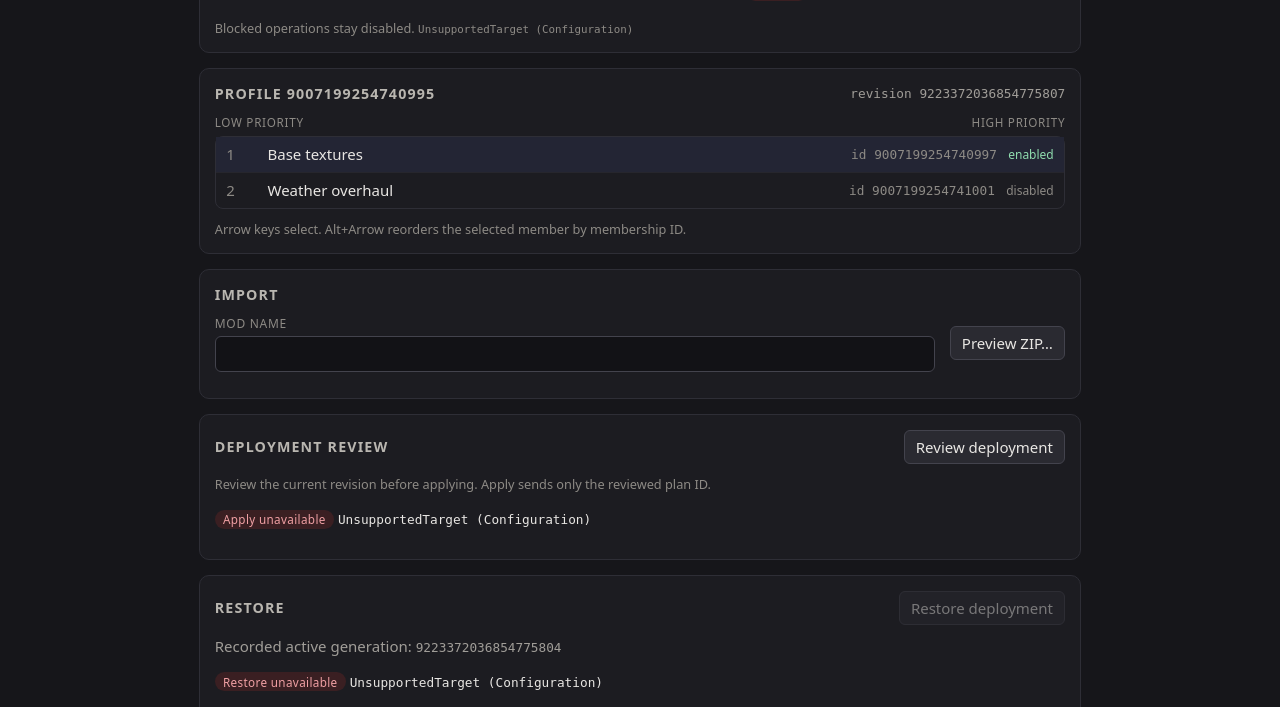
Test case: workspace shell › reloads status after Import Apply instead of trusting a replay snapshot
This screenshot has width=1280, height=707.
(page scrolled)
Expected: the text "revision 9223372036854775807" is shown, [850,86,1065,100]
Type "Textures" into the field labelled "Mod name" at (575, 354), box [215,336,935,372]
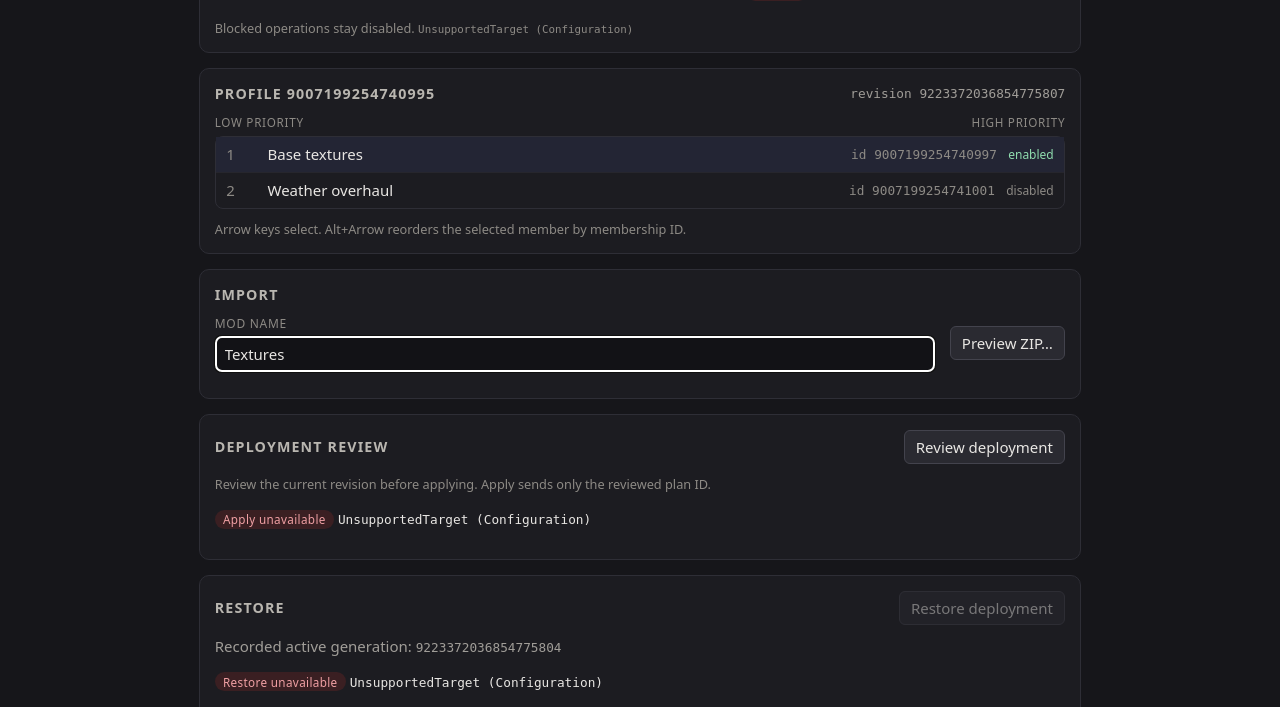
Click the button "Preview ZIP…" at (1007, 343), box [950,326,1065,360]
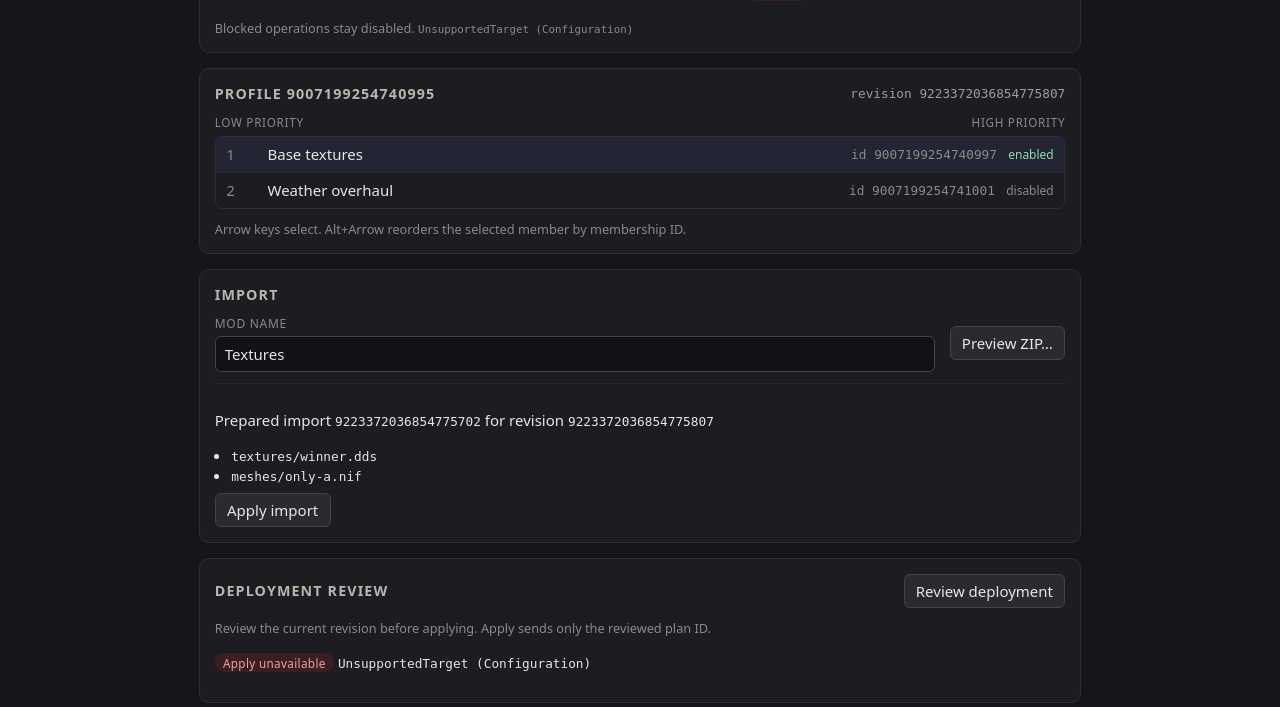
Click the button "Apply import" at (273, 510), box [215,492,331,526]
(page scrolled)
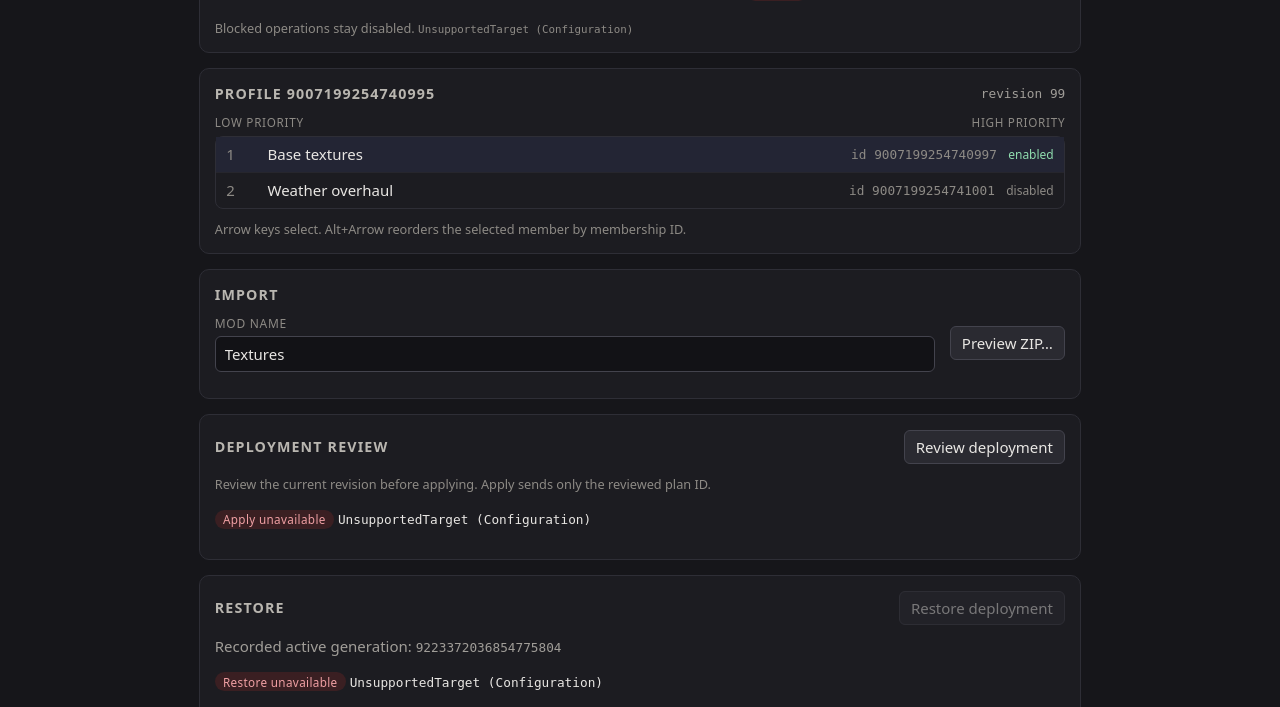
Result: the text "revision 99" is shown at [981,86,1065,100]
